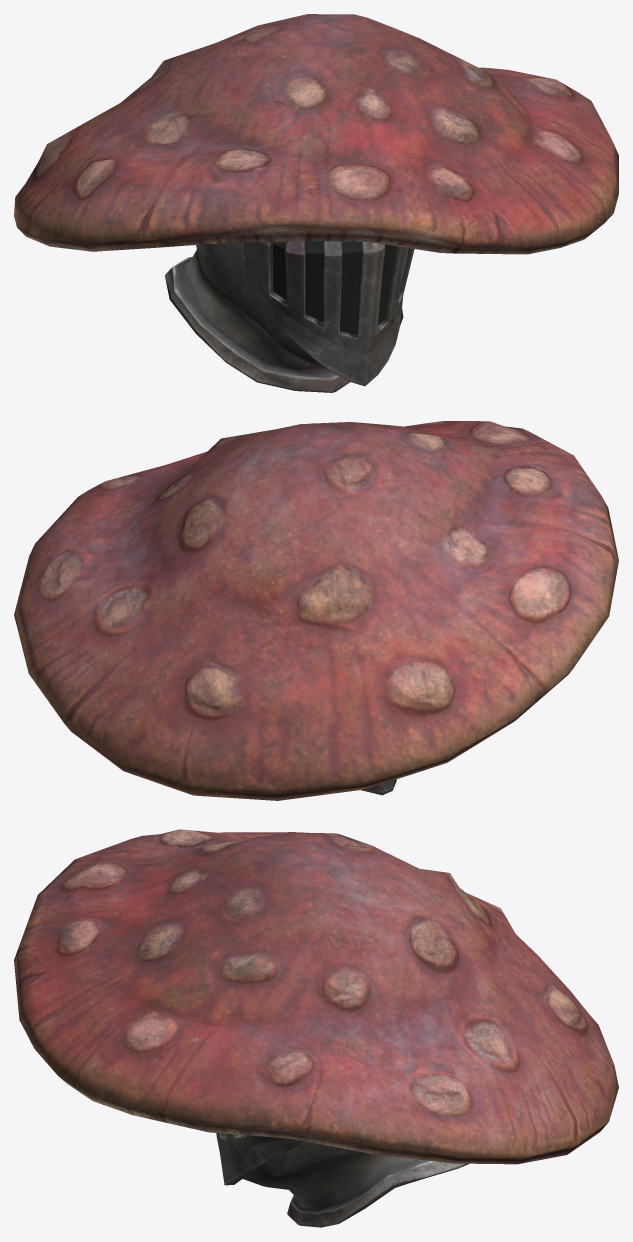
The model's file is sm_dwarf_mushroom_helmet.gltf.
3 renders of one model, top to bottom at view 1: azimuth 30°, elevation 25°; view 2: azimuth 150°, elevation 25°; view 3: azimuth 270°, elevation 25°, orthographic.
Parts seen in each view (by area): view 1: sm_human_mushroom_helmet; view 2: sm_human_mushroom_helmet; view 3: sm_human_mushroom_helmet.
Part boxes in pixels (<box>): sm_human_mushroom_helmet: <box>14,14,618,392</box>; sm_human_mushroom_helmet: <box>14,421,618,800</box>; sm_human_mushroom_helmet: <box>14,829,618,1227</box>.
Bounding box in the file's own units: 91.42 × 59 × 89.32.
1 material, 1 textured.
